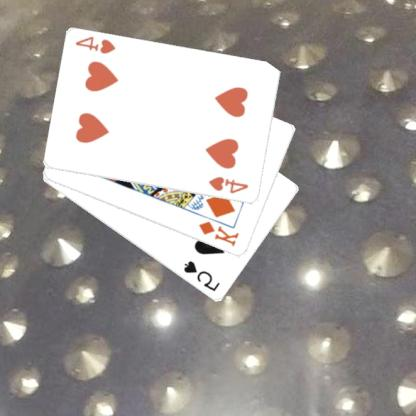4H: (75, 34, 119, 56), (208, 174, 251, 195)
5S: (182, 258, 223, 294)
KD: (198, 219, 242, 248)
